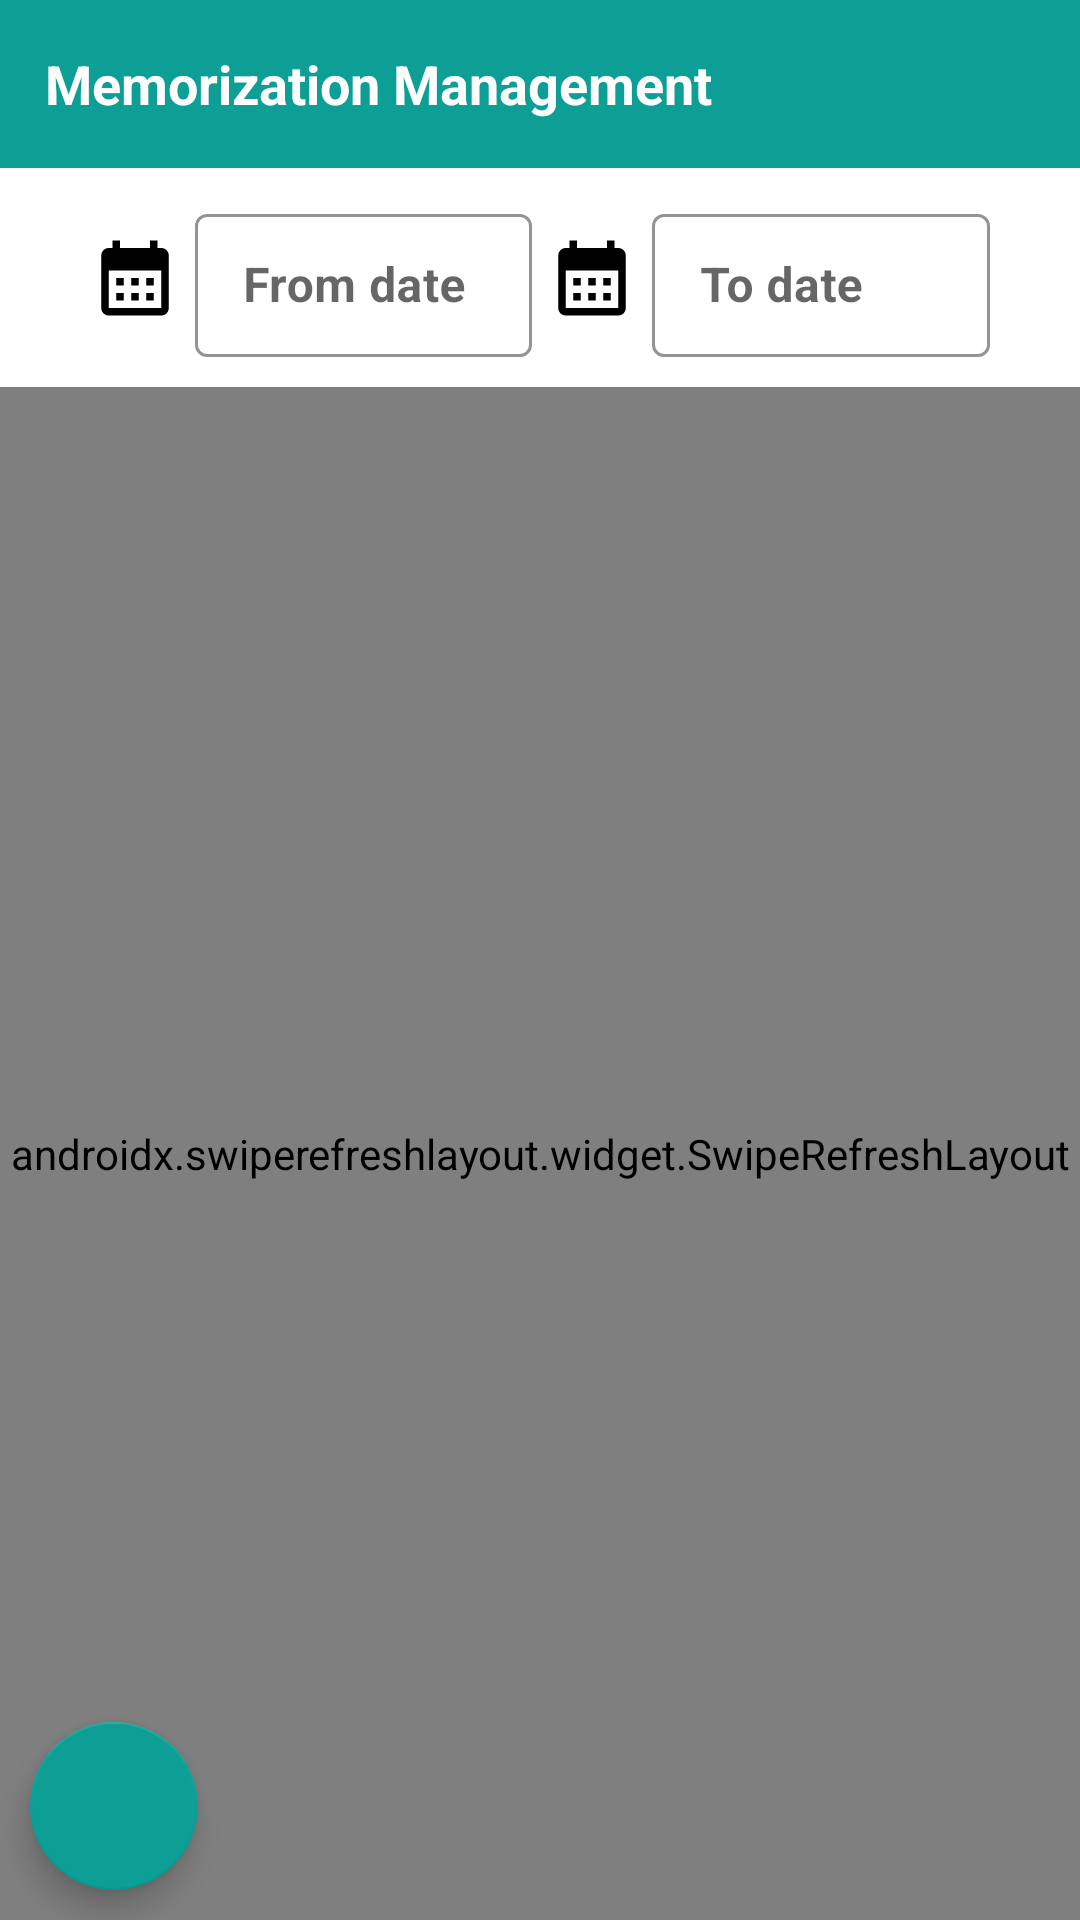

Named icons in this screenshot (1080*1920) and their centers, (x=x, y=y):
calendar: (x=135, y=278), (x=592, y=278)
